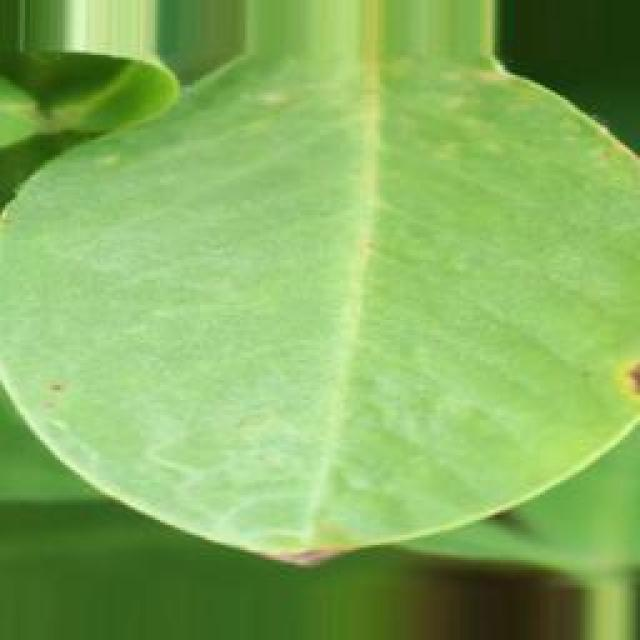Early_leaf_spot: (7, 355, 82, 434), (594, 326, 640, 438), (260, 537, 374, 574)
